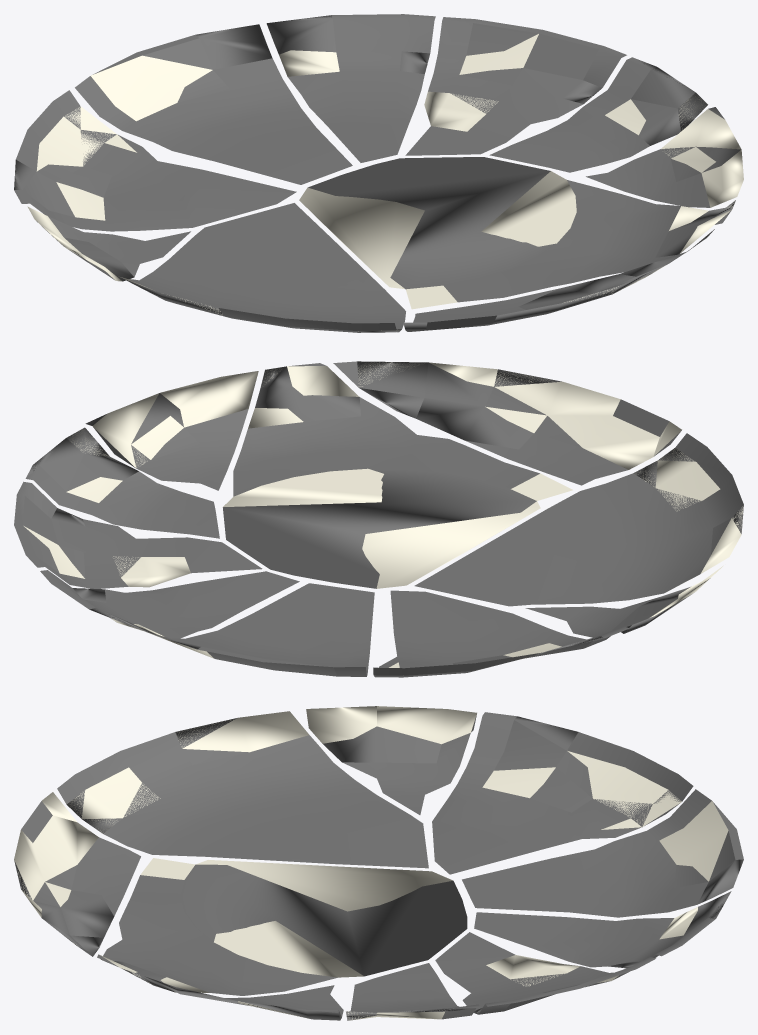
Rendered from CeramicsShattered.fbx_Plate_Large_Fractured.fbx.
3 renders of one model, top to bottom at view 1: azimuth 30°, elevation 25°; view 2: azimuth 150°, elevation 25°; view 3: azimuth 270°, elevation 25°, orthographic.
Visible parts, largest first — view 1: Plate_Large_cell.003, Plate_Large_cell.001, Plate_Large_cell.009, Plate_Large_cell.008, Plate_Large_cell.006, Plate_Large_cell.004, Plate_Large_cell, Plate_Large_cell.005, Plate_Large_cell.007, Plate_Large_cell.002; view 2: Plate_Large_cell.003, Plate_Large_cell.009, Plate_Large_cell.007, Plate_Large_cell.006, Plate_Large_cell.005, Plate_Large_cell.001, Plate_Large_cell.008, Plate_Large_cell, Plate_Large_cell.004, Plate_Large_cell.002; view 3: Plate_Large_cell.003, Plate_Large_cell.009, Plate_Large_cell.008, Plate_Large_cell.001, Plate_Large_cell.007, Plate_Large_cell.002, Plate_Large_cell.004, Plate_Large_cell.006, Plate_Large_cell, Plate_Large_cell.005.
Boxes of the visible parts, x1=… form: Plate_Large_cell.003: x1=299, y1=157, x2=735, y2=309; Plate_Large_cell.001: x1=75, y1=24, x2=352, y2=184; Plate_Large_cell.009: x1=119, y1=203, x2=405, y2=332; Plate_Large_cell.008: x1=14, y1=90, x2=296, y2=231; Plate_Large_cell.006: x1=405, y1=17, x2=626, y2=155; Plate_Large_cell.004: x1=266, y1=14, x2=435, y2=162; Plate_Large_cell: x1=489, y1=57, x2=707, y2=172; Plate_Large_cell.005: x1=586, y1=107, x2=743, y2=207; Plate_Large_cell.007: x1=403, y1=229, x2=714, y2=331; Plate_Large_cell.002: x1=27, y1=206, x2=190, y2=281; Plate_Large_cell.003: x1=222, y1=363, x2=572, y2=588; Plate_Large_cell.009: x1=414, y1=433, x2=743, y2=606; Plate_Large_cell.007: x1=333, y1=361, x2=681, y2=485; Plate_Large_cell.006: x1=14, y1=481, x2=262, y2=588; Plate_Large_cell.005: x1=85, y1=371, x2=258, y2=490; Plate_Large_cell.001: x1=146, y1=583, x2=374, y2=676; Plate_Large_cell.008: x1=373, y1=590, x2=629, y2=677; Plate_Large_cell: x1=25, y1=427, x2=219, y2=538; Plate_Large_cell.004: x1=40, y1=570, x2=299, y2=638; Plate_Large_cell.002: x1=525, y1=565, x2=723, y2=637; Plate_Large_cell.003: x1=97, y1=858, x2=467, y2=995; Plate_Large_cell.009: x1=57, y1=711, x2=428, y2=868; Plate_Large_cell.008: x1=432, y1=712, x2=693, y2=874; Plate_Large_cell.001: x1=462, y1=789, x2=743, y2=917; Plate_Large_cell.007: x1=14, y1=792, x2=140, y2=956; Plate_Large_cell.002: x1=306, y1=706, x2=476, y2=814; Plate_Large_cell.004: x1=474, y1=891, x2=731, y2=968; Plate_Large_cell.006: x1=435, y1=932, x2=655, y2=1014; Plate_Large_cell: x1=346, y1=963, x2=480, y2=1020; Plate_Large_cell.005: x1=145, y1=976, x2=343, y2=1020.
Size of the model in its own units: 18.18 by 1.09 by 18.09.
